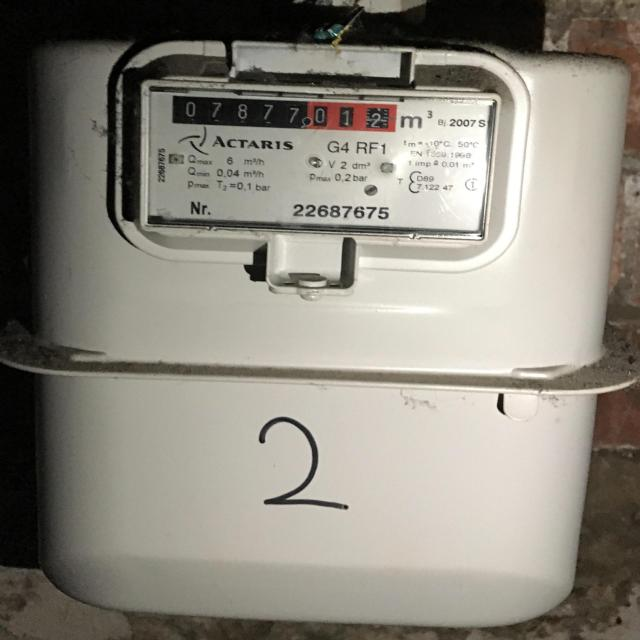gaz_meter: (142, 78, 497, 245)
indication: (172, 97, 398, 132)
